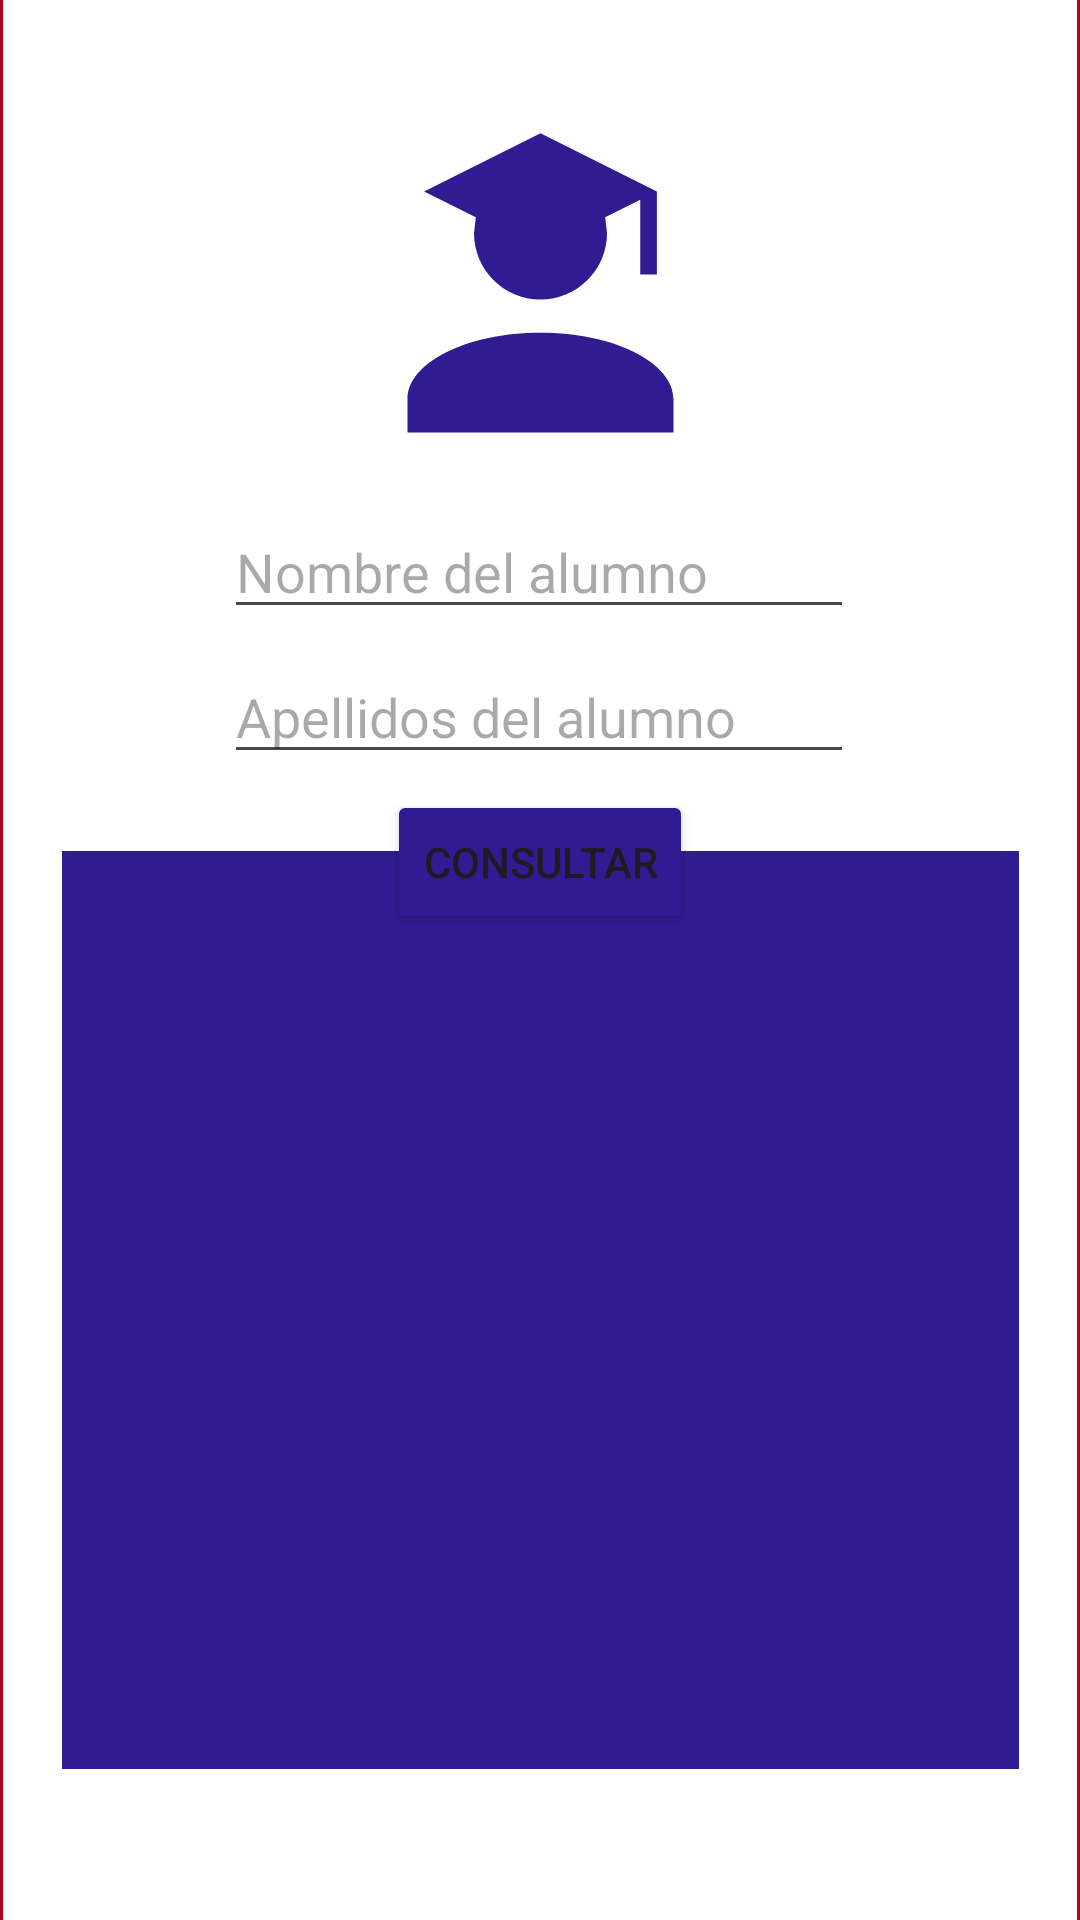

Locate icon controls on the screen. Image size 1080 x 1920, boxes as (x1, y1, x2, y2).
account school: (407, 133, 674, 433)
